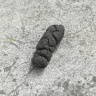Dog: (34, 25, 64, 68)
